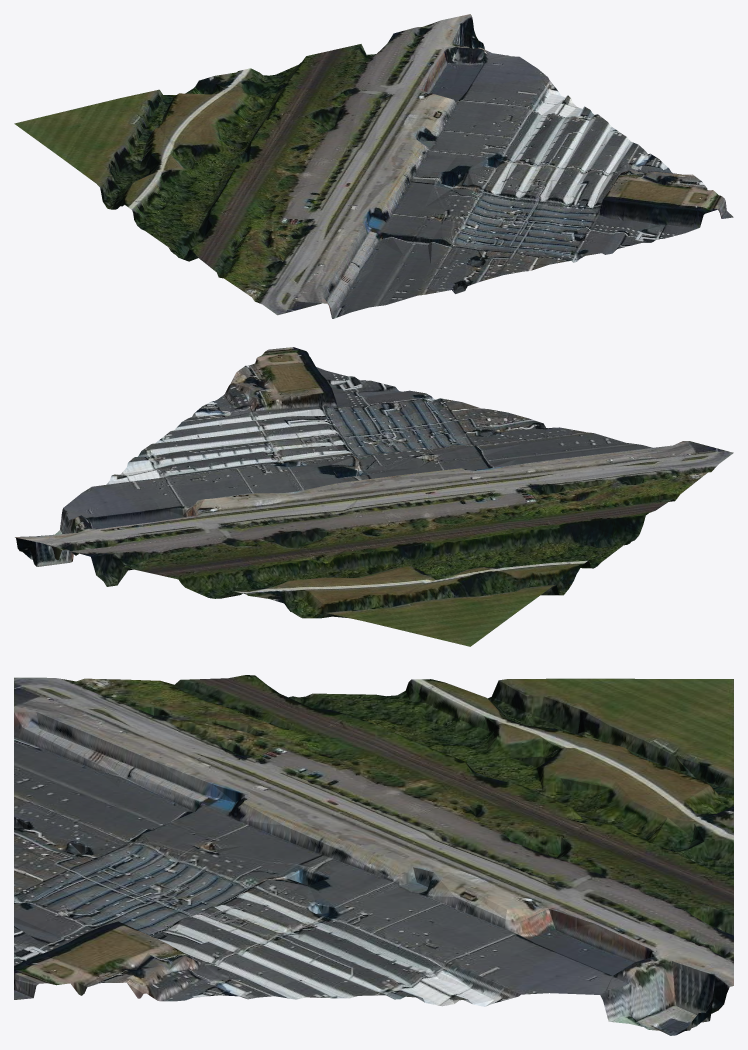
Rendered from map_13_2045_3446.dae.
3 renders of one model, top to bottom at view 1: azimuth 30°, elevation 25°; view 2: azimuth 150°, elevation 25°; view 3: azimuth 270°, elevation 25°, orthographic. The views are drawn at different scales.
Visible parts, largest first — view 1: Ter0; view 2: Ter0; view 3: Ter0.
Boxes of the visible parts, bbox=[...] form: Ter0: bbox=[14, 14, 733, 318]; Ter0: bbox=[15, 347, 733, 646]; Ter0: bbox=[14, 675, 733, 1035].
Bounding box in the file's own units: 256 × 256 × 22.58.
2 materials, 2 textured.
